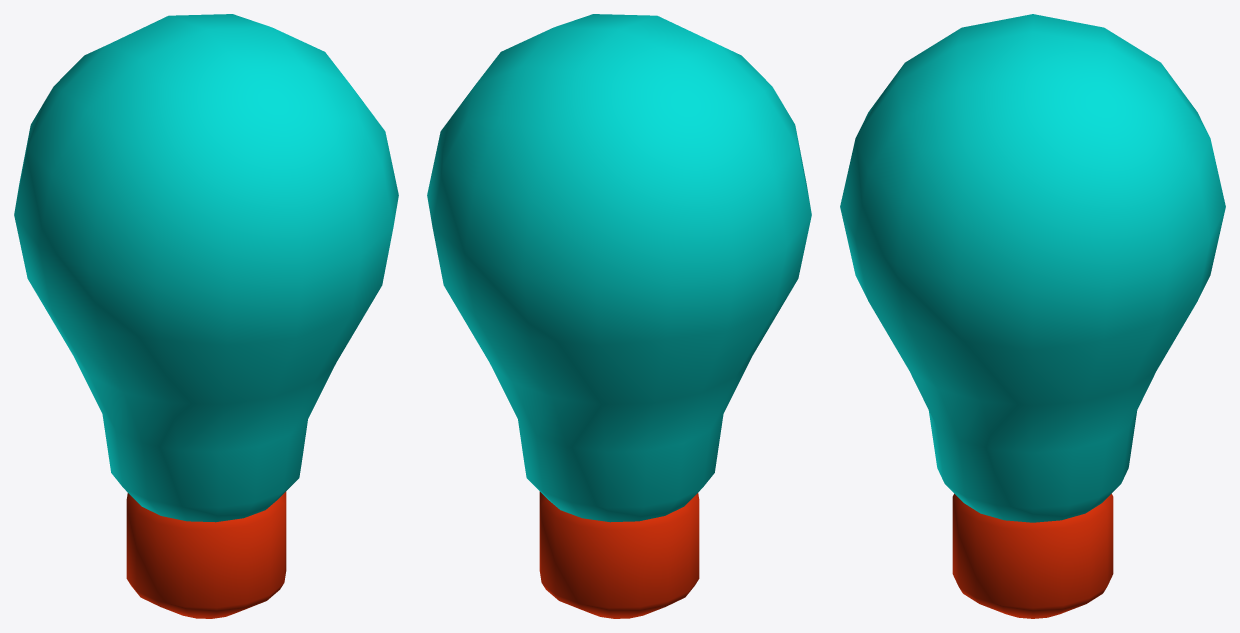
Rendered from LightBulb.fbx.
3 renders of one model, left to right at view 1: azimuth 30°, elevation 25°; view 2: azimuth 150°, elevation 25°; view 3: azimuth 270°, elevation 25°, orthographic.
Parts seen in each view (by area): view 1: LightBulb; view 2: LightBulb; view 3: LightBulb.
Boxes of the visible parts, x1,y1,x2,y2 form: LightBulb: [14, 14, 398, 618]; LightBulb: [427, 14, 811, 618]; LightBulb: [840, 14, 1225, 618].
Bounding box in the file's own units: 106 × 174 × 106.
